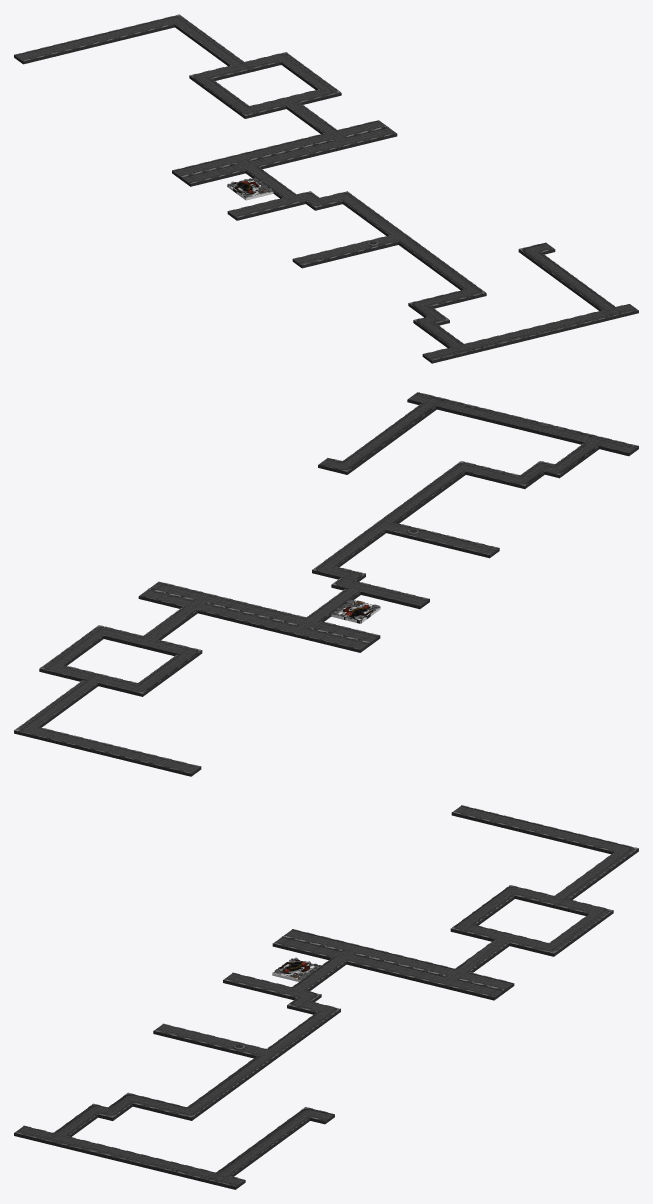
File: tyrbld-fortress.glb
The picture shows the model from 3 angles, top to bottom: view 1: azimuth 30°, elevation 25°; view 2: azimuth 150°, elevation 25°; view 3: azimuth 330°, elevation 25°; orthographic projection. The views are drawn at different scales.
Visible parts, largest first — view 1: shapesz-tyrbld-fortress-deck, shapesz-tyrbld-fortress-parts; view 2: shapesz-tyrbld-fortress-deck, shapesz-tyrbld-fortress-parts; view 3: shapesz-tyrbld-fortress-deck, shapesz-tyrbld-fortress-parts.
Part boxes in pixels (bbox=[...]): shapesz-tyrbld-fortress-deck: bbox=[14, 14, 638, 363]; shapesz-tyrbld-fortress-parts: bbox=[227, 52, 378, 245]; shapesz-tyrbld-fortress-deck: bbox=[14, 392, 638, 776]; shapesz-tyrbld-fortress-parts: bbox=[40, 529, 418, 667]; shapesz-tyrbld-fortress-deck: bbox=[14, 805, 638, 1189]; shapesz-tyrbld-fortress-parts: bbox=[234, 910, 612, 1049].
Bounding box in the file's own units: 30.08 × 0.6268 × 105.
Materials: 15 (15 with a texture image).
